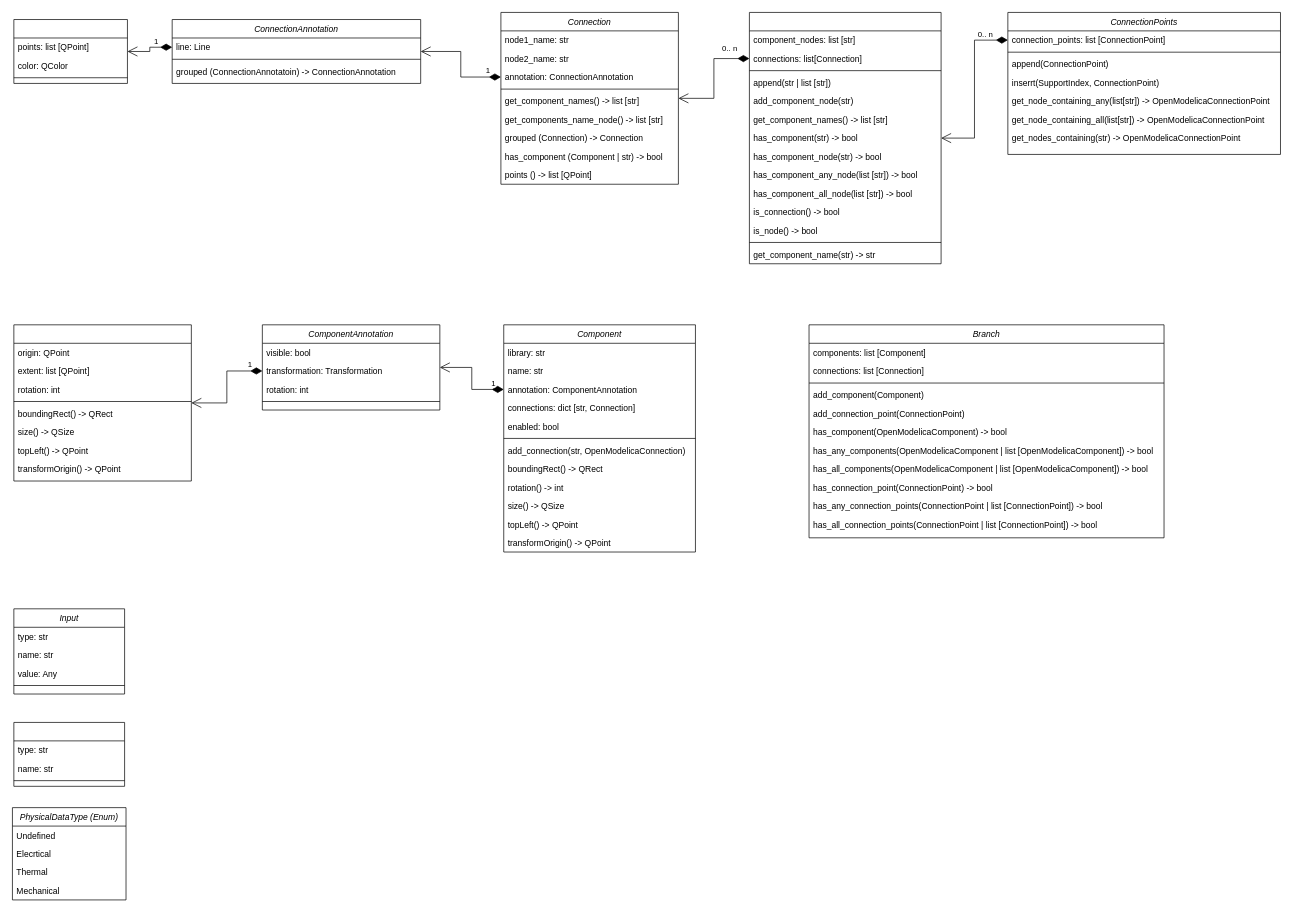
Image size: 1293x914. Some labels were removed from this diagram. The shapes that lost their labels are listed below. From the top down, each one's box as (x1, y1, x2, y2) in pixels, then its label:
(13, 19, 127, 83): Line
(749, 12, 941, 264): ConnectionPoint
(13, 324, 191, 481): Transformation
(13, 722, 125, 786): Output
